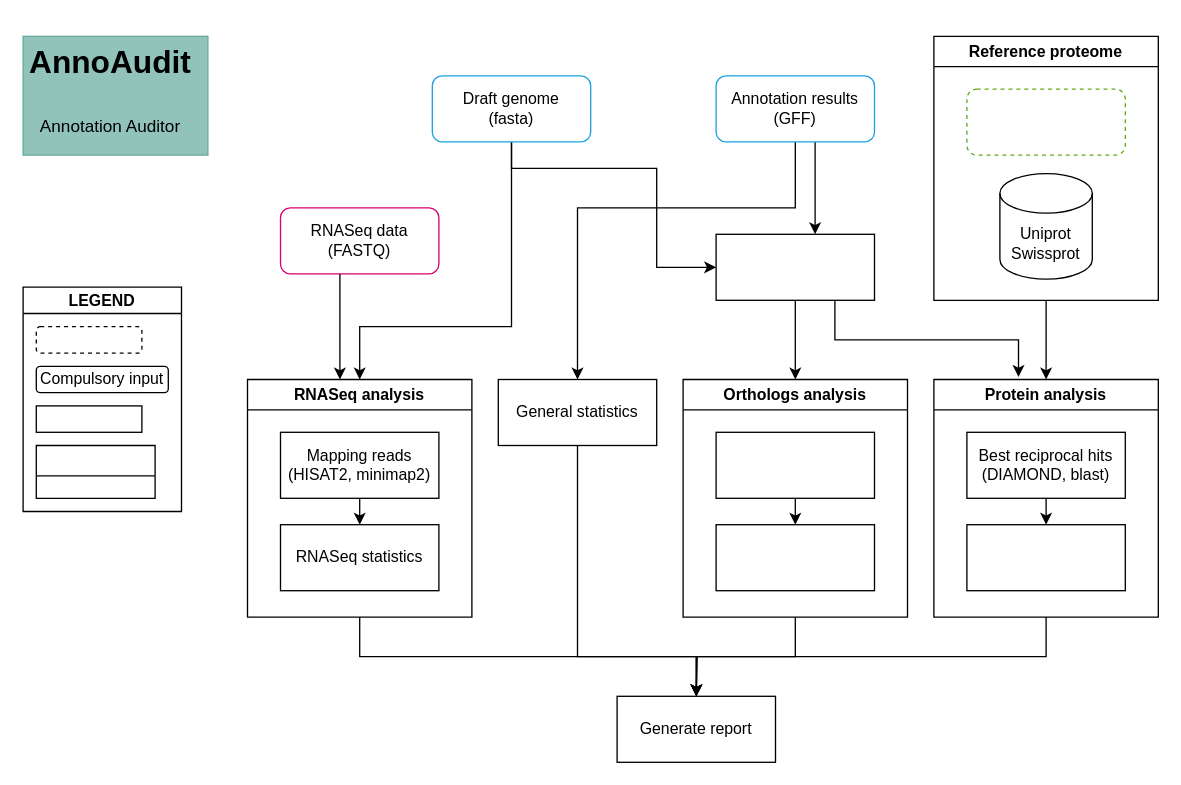
The diagram is 1181 pixels wide and 785 high, and some of its shapes have lost their labels. The centre of each missing label's shape, as x and y in pixels:
"Analysis step" goes at point 88,418.
"Extract predicted proteome" goes at point 794,266.
"Optional input" goes at point 88,339.
"Ortholog analysis (BUSCO, OMArk)" goes at point 794,464.
"Orthologs statistics" goes at point 794,557.
"Protein statistics" goes at point 1045,557.
"Reference proteome (fasta)" goes at point 1045,121.
"Subworkflows" goes at point 95,471.
